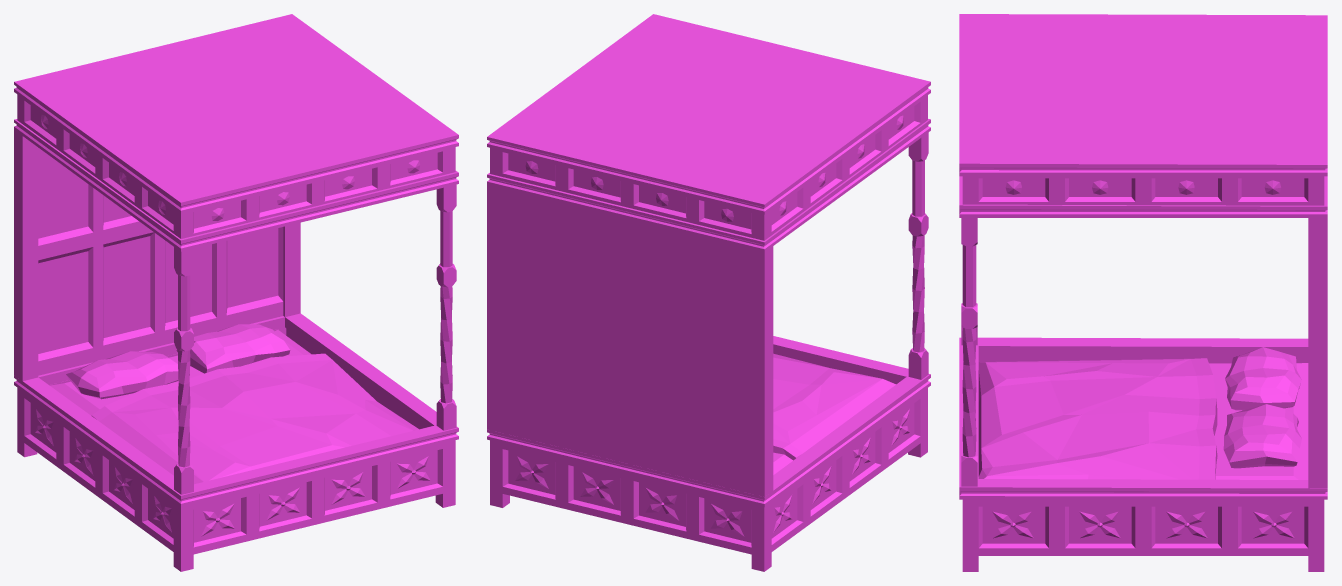
Rendered from SM_Bed_Canopy_Fantasy.fbx.
3 views of the same model, side by side, from view 1: azimuth 30°, elevation 25°; view 2: azimuth 150°, elevation 25°; view 3: azimuth 270°, elevation 25° (orthographic). The views are drawn at different scales.
Visible parts, largest first — view 1: SM_Bed_Canopy_Fantasy; view 2: SM_Bed_Canopy_Fantasy; view 3: SM_Bed_Canopy_Fantasy.
Part boxes in pixels (x1=…): SM_Bed_Canopy_Fantasy: x1=14, y1=14, x2=458, y2=571; SM_Bed_Canopy_Fantasy: x1=487, y1=14, x2=930, y2=571; SM_Bed_Canopy_Fantasy: x1=959, y1=14, x2=1327, y2=571.
Size of the model in its own units: 2.06 by 2.63 by 2.14.
